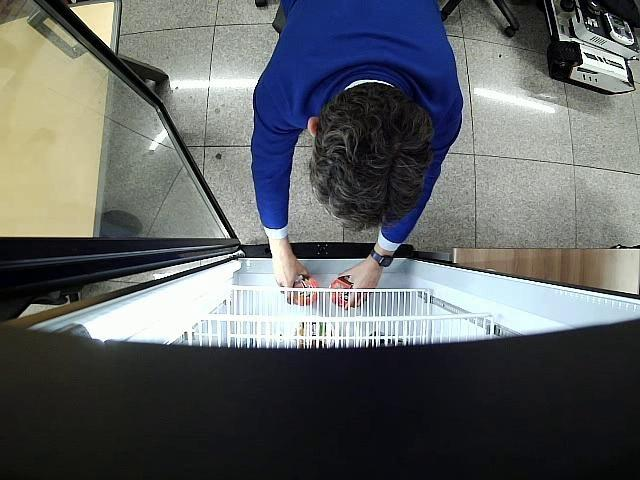02_shinRamen_S: (329, 276, 366, 308), (286, 273, 318, 306)
